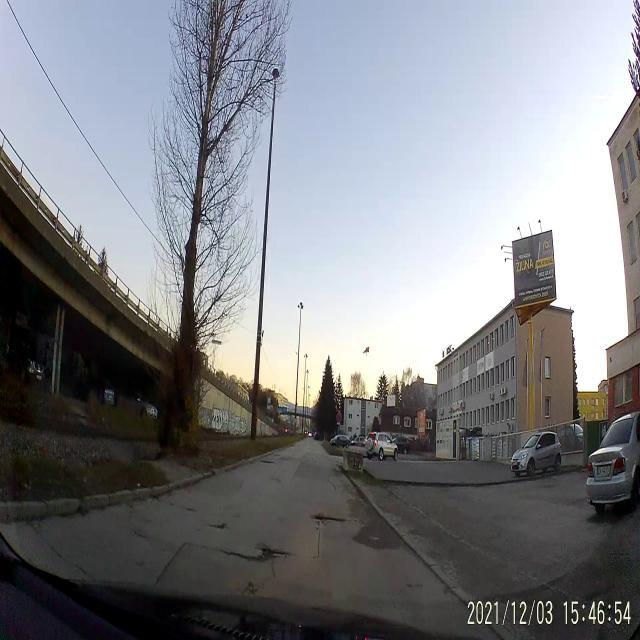Pothole: (220, 537, 292, 570), (308, 506, 352, 530), (208, 517, 226, 530), (258, 458, 278, 467)
